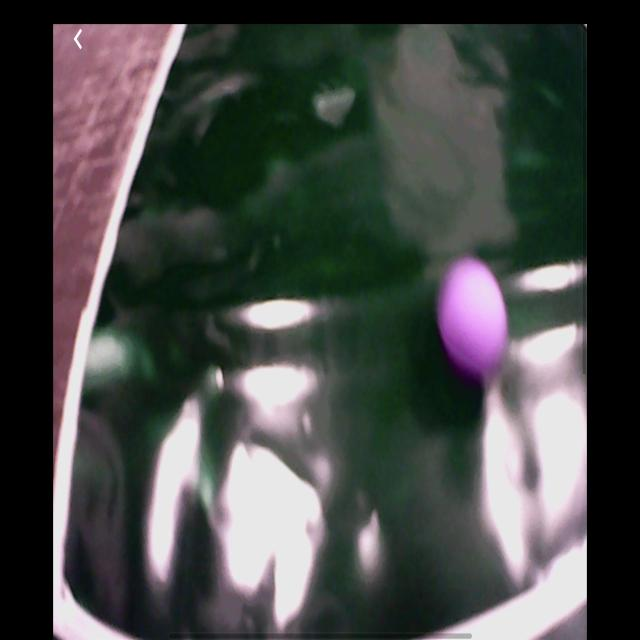ball: (440, 261, 509, 372)
